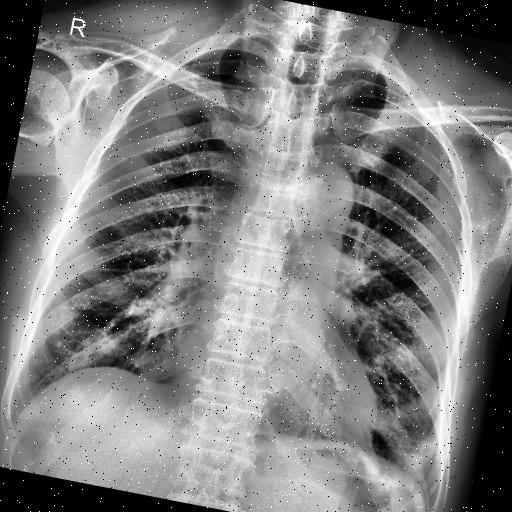0- Aortic enlargement: (279, 150, 360, 240), (292, 156, 360, 237), (292, 156, 360, 223)
6- Infiltration: (390, 429, 440, 484)
7- Lung Opacity: (390, 424, 442, 482)
